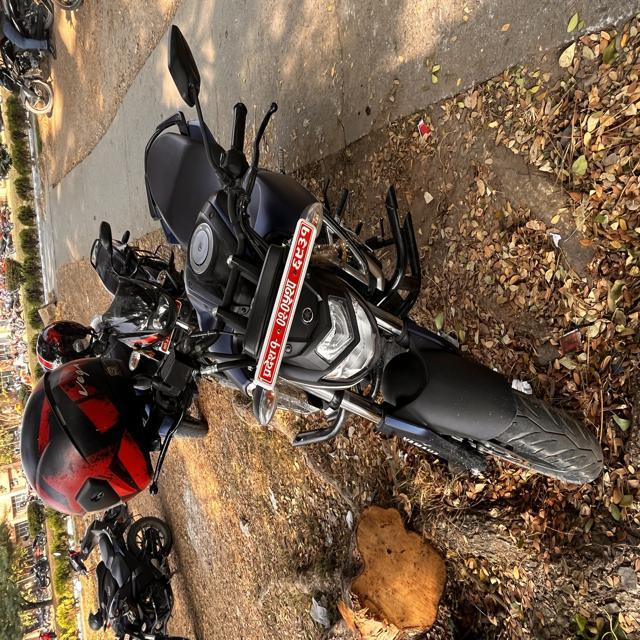license_plate: (244, 210, 330, 402)
